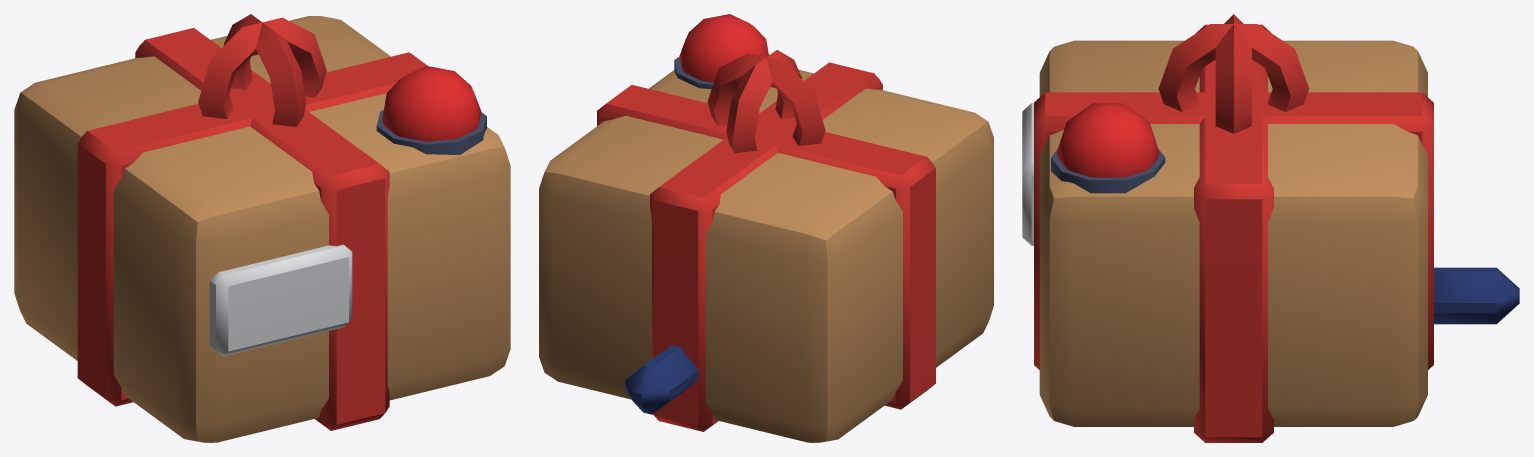
The model's file is w_j_mine.glb.
3 renders of one model, left to right at view 1: azimuth 30°, elevation 25°; view 2: azimuth 150°, elevation 25°; view 3: azimuth 270°, elevation 25°, orthographic. The views are drawn at different scales.
Parts seen in each view (by area): view 1: body; view 2: body; view 3: body.
Part boxes in pixels (x1=…): body: x1=14, y1=14, x2=510, y2=442; body: x1=539, y1=14, x2=993, y2=442; body: x1=1022, y1=14, x2=1519, y2=442.
Size of the model in its own units: 0.1575 by 0.1475 by 0.1957.
